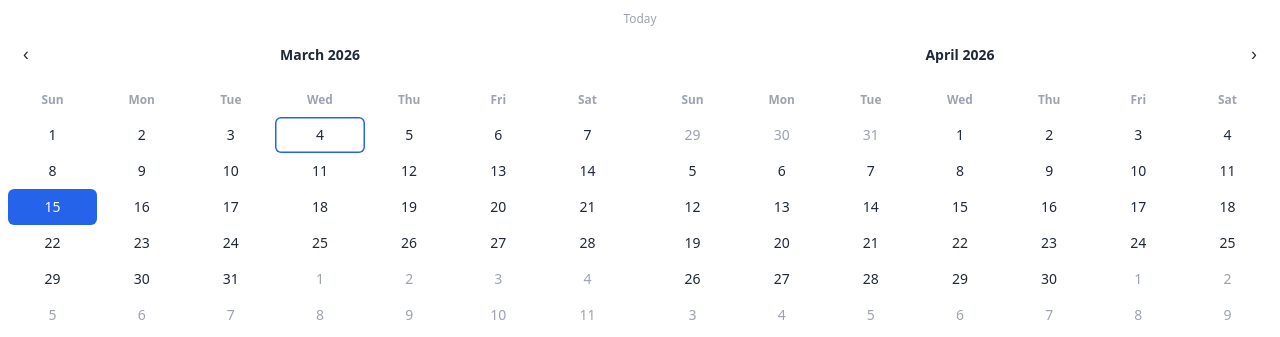
Test case: CalendarWidget numberOfMonths › clicking next shifts all months by one
Expected: the button "March 2026" is shown, [272,44,368,66]
Expected: the text "April 2026" is shown, [926,45,995,64]
Click the button named "Next month": (1254, 55) [1236,37,1272,73]
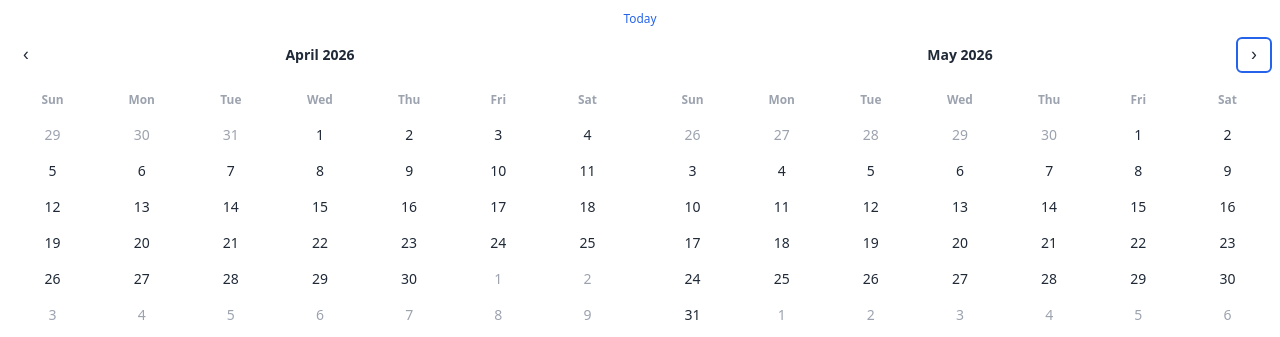
Now the button "April 2026" is shown, box [278,44,363,66]
Now the text "May 2026" is shown, box [927,45,993,64]
Now the button "March 2026" is gone
